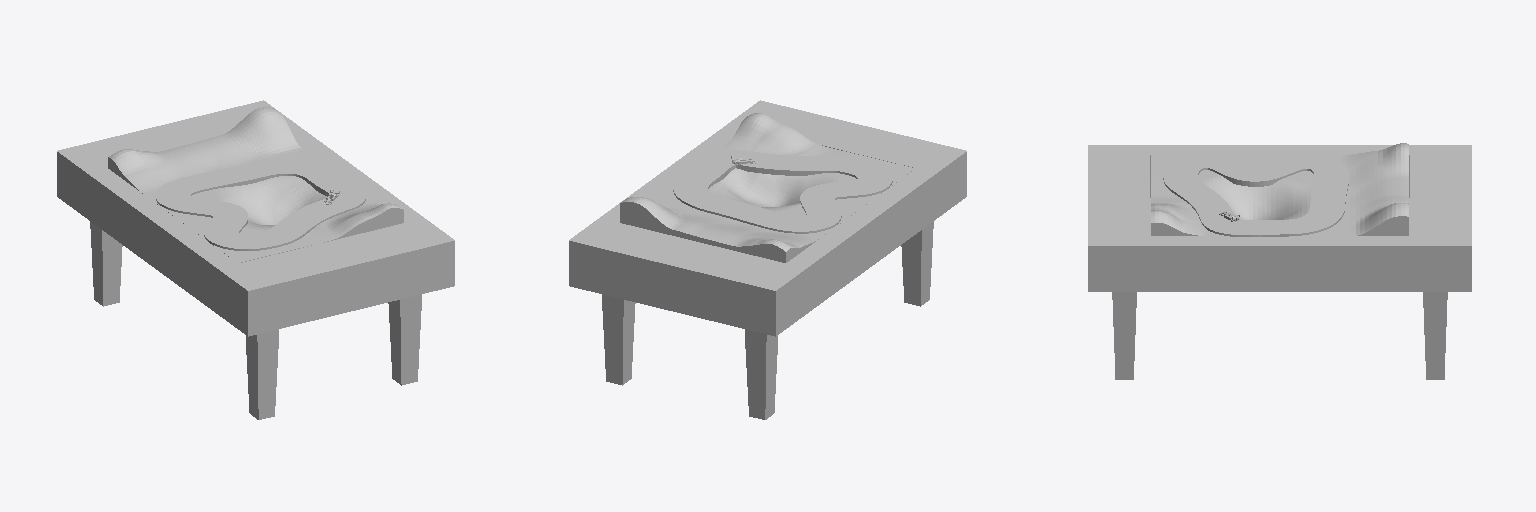
The model's file is NewestTisch34.obj.
The picture shows the model from 3 angles: view 1: azimuth 30°, elevation 25°; view 2: azimuth 150°, elevation 25°; view 3: azimuth 270°, elevation 25°; orthographic projection.
Parts seen in each view (by area): view 1: Tischplatte_wood_table_001, Landschaft_aerial_grass_rock, off, Bein1_wood_table_001, Bein4_wood_table_001.003, Bein3_wood_table_001.002; view 2: Tischplatte_wood_table_001, Landschaft_aerial_grass_rock, off, Bein2_wood_table_001.001, Bein3_wood_table_001.002, Bein4_wood_table_001.003; view 3: Tischplatte_wood_table_001, Landschaft_aerial_grass_rock, off, Bein1_wood_table_001, Bein2_wood_table_001.001.
Part boxes in pixels (left/top/right/bottom): Tischplatte_wood_table_001: left=57, top=100, right=454, bottom=336; Landschaft_aerial_grass_rock: left=108, top=107, right=403, bottom=262; off: left=156, top=159, right=365, bottom=250; Bein1_wood_table_001: left=388, top=294, right=421, bottom=385; Bein4_wood_table_001.003: left=246, top=329, right=278, bottom=419; Bein3_wood_table_001.002: left=90, top=221, right=122, bottom=306; Tischplatte_wood_table_001: left=569, top=100, right=966, bottom=336; Landschaft_aerial_grass_rock: left=620, top=113, right=915, bottom=262; off: left=673, top=150, right=892, bottom=233; Bein2_wood_table_001.001: left=602, top=294, right=635, bottom=385; Bein3_wood_table_001.002: left=745, top=329, right=777, bottom=419; Bein4_wood_table_001.003: left=901, top=221, right=933, bottom=306; Tischplatte_wood_table_001: left=1088, top=145, right=1471, bottom=291; Landschaft_aerial_grass_rock: left=1151, top=143, right=1408, bottom=235; off: left=1163, top=153, right=1348, bottom=236; Bein1_wood_table_001: left=1112, top=292, right=1136, bottom=379; Bein2_wood_table_001.001: left=1423, top=292, right=1447, bottom=379.
Size of the model in its own units: 5 by 3.91 by 8.